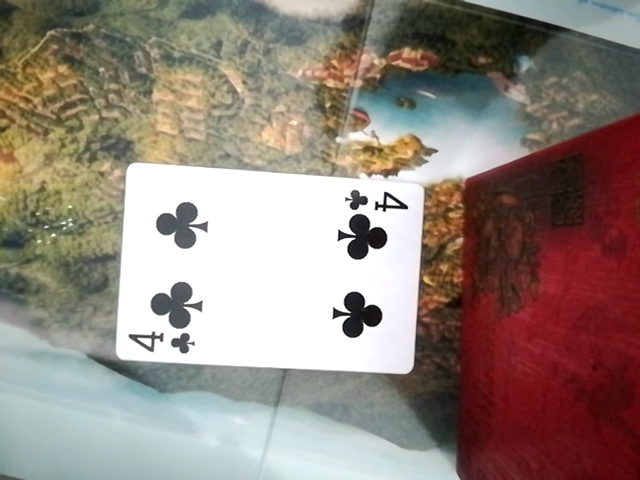mh 4: (118, 162, 429, 376)
